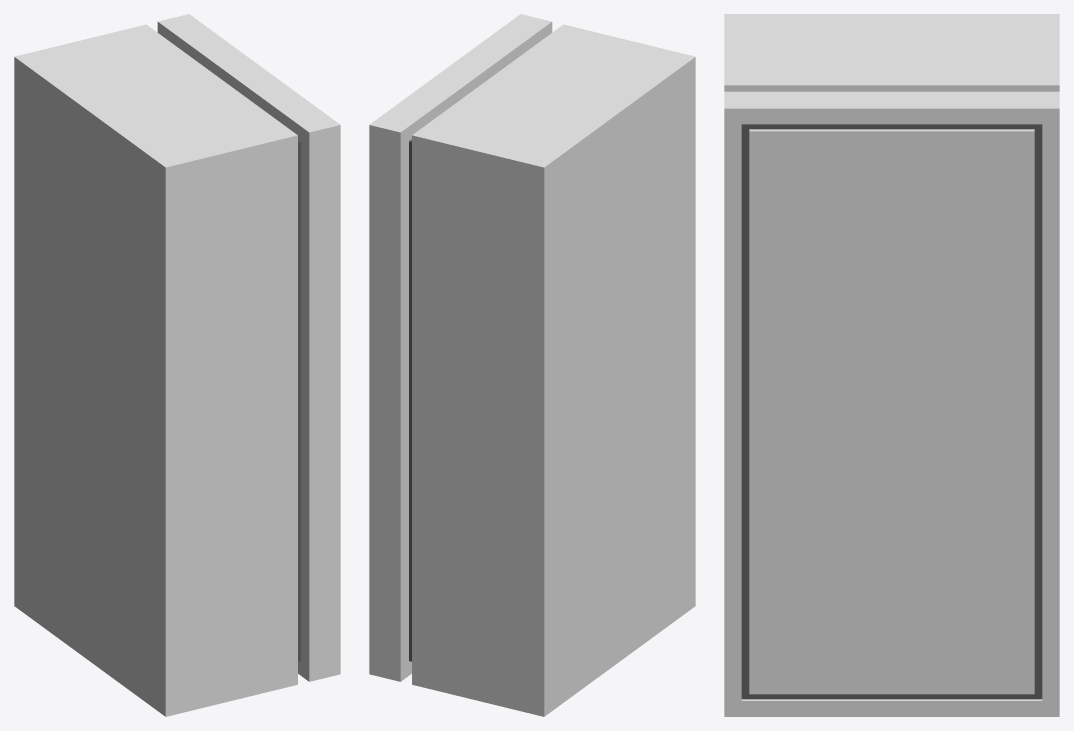
The model's file is Lockers.fbx.
3 renders of one model, left to right at view 1: azimuth 30°, elevation 25°; view 2: azimuth 150°, elevation 25°; view 3: azimuth 270°, elevation 25°, orthographic. The views are drawn at different scales.
Parts seen in each view (by area): view 1: Locker; view 2: Locker; view 3: Locker.
Part boxes in pixels (box(x1,y1,x2,y2)): Locker: box(14, 14, 340, 716); Locker: box(369, 14, 695, 716); Locker: box(724, 14, 1059, 716).
Bounding box in the file's own units: 100 × 300 × 150.
